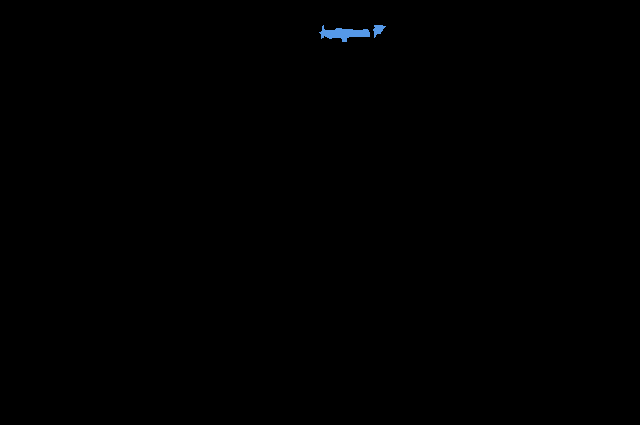Airplane: (319, 25, 385, 42)
